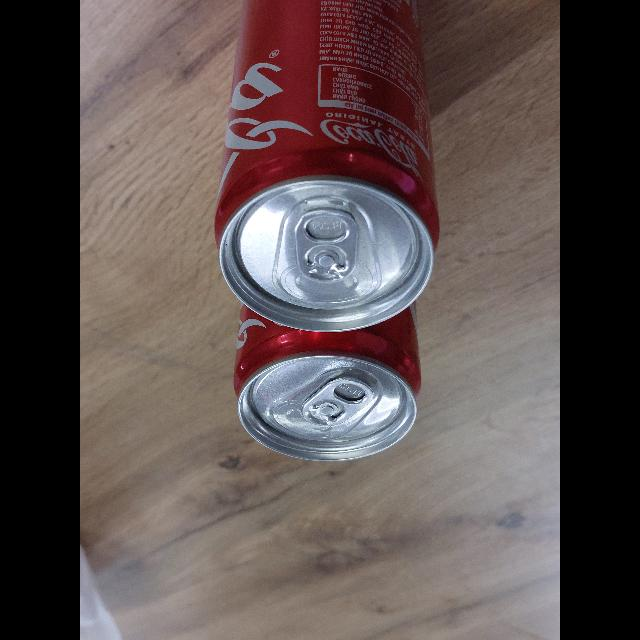coca_cola: (213, 0, 440, 335), (233, 303, 422, 461)
